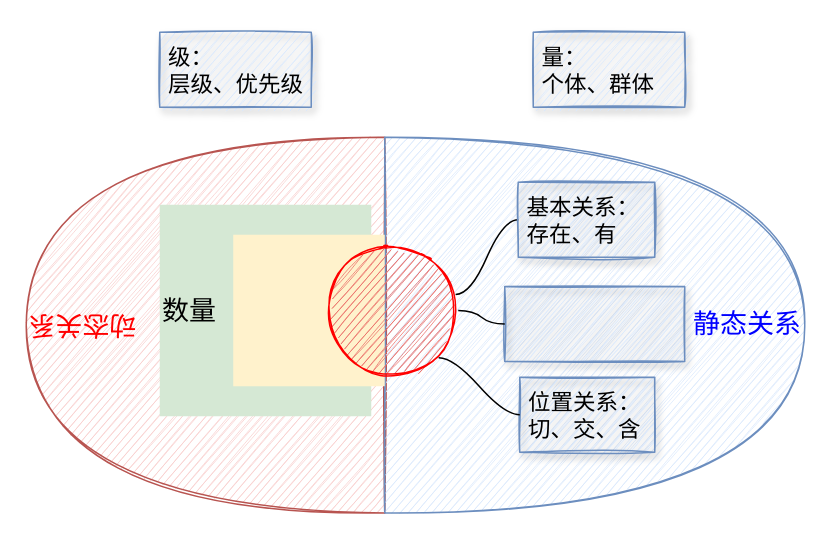
Image size: 831x540. Some labels were removed from this diagram. The shapes that lost their labels are listed below. From the top down, each one's centre as x and y in pixels, then its label:
At point 308,310: "时间".
At point 390,309: "关系".
At point 595,325: "组合关系： 一对多、多对多".
